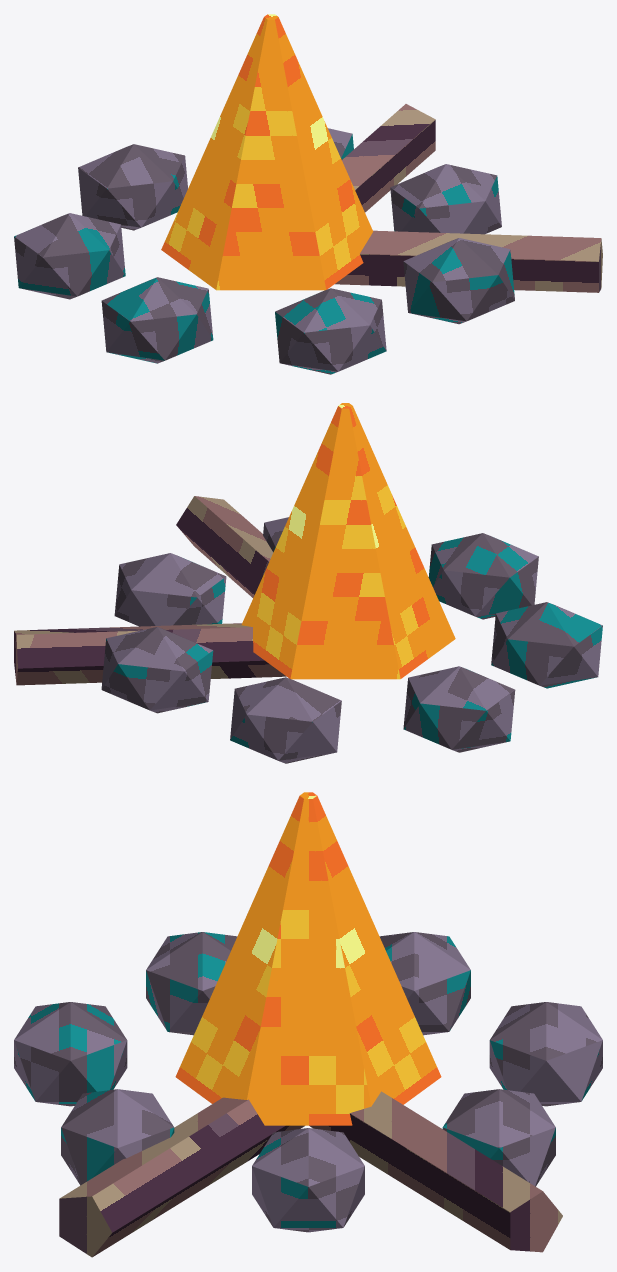
Rendered from r06_fogueira.glb.
The picture shows the model from 3 angles, top to bottom: view 1: azimuth 30°, elevation 25°; view 2: azimuth 150°, elevation 25°; view 3: azimuth 270°, elevation 25°; orthographic projection. The views are drawn at different scales.
Parts seen in each view (by area): view 1: r06_fogueira; view 2: r06_fogueira; view 3: r06_fogueira.
Boxes of the visible parts, <box> form: r06_fogueira: <box>14,14,602,374</box>; r06_fogueira: <box>14,403,602,763</box>; r06_fogueira: <box>14,792,602,1257</box>.
Size of the model in its own units: 1.44 by 0.83 by 1.33.
3 materials, 3 textured.
